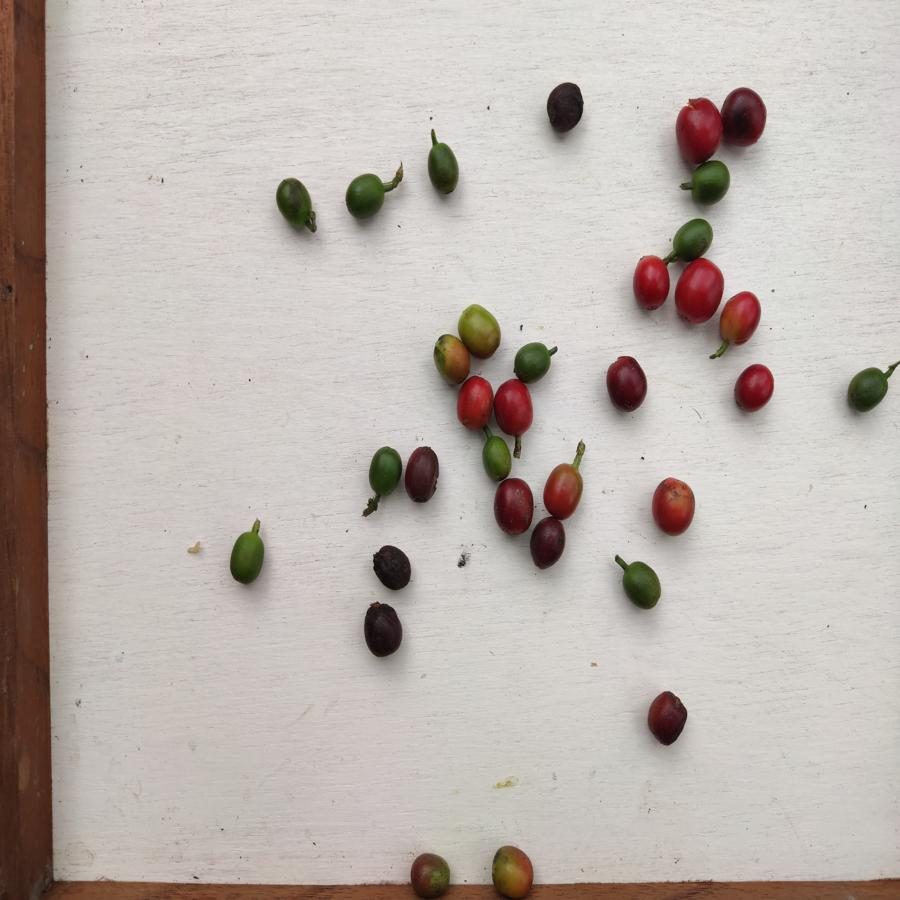Inmaduro: (274, 176, 319, 232), (846, 362, 890, 418), (620, 558, 665, 611), (227, 531, 269, 585), (424, 142, 465, 196), (688, 162, 734, 207), (671, 218, 718, 259), (345, 174, 386, 218), (368, 444, 401, 497), (514, 341, 553, 378), (482, 435, 511, 480)
Maduro: (673, 96, 723, 162), (674, 258, 723, 325), (653, 476, 697, 535), (719, 291, 763, 348), (495, 376, 535, 436), (632, 255, 670, 314), (455, 377, 495, 431), (733, 362, 774, 412)
Pinton: (487, 842, 541, 900), (455, 304, 504, 359), (542, 464, 589, 520), (433, 332, 474, 384), (410, 850, 453, 896)
Sobremaduro: (723, 85, 767, 146), (605, 354, 647, 417), (363, 599, 405, 658), (645, 690, 688, 745), (495, 478, 534, 538), (402, 447, 442, 505), (529, 517, 568, 573), (370, 543, 414, 592), (544, 81, 584, 134)
